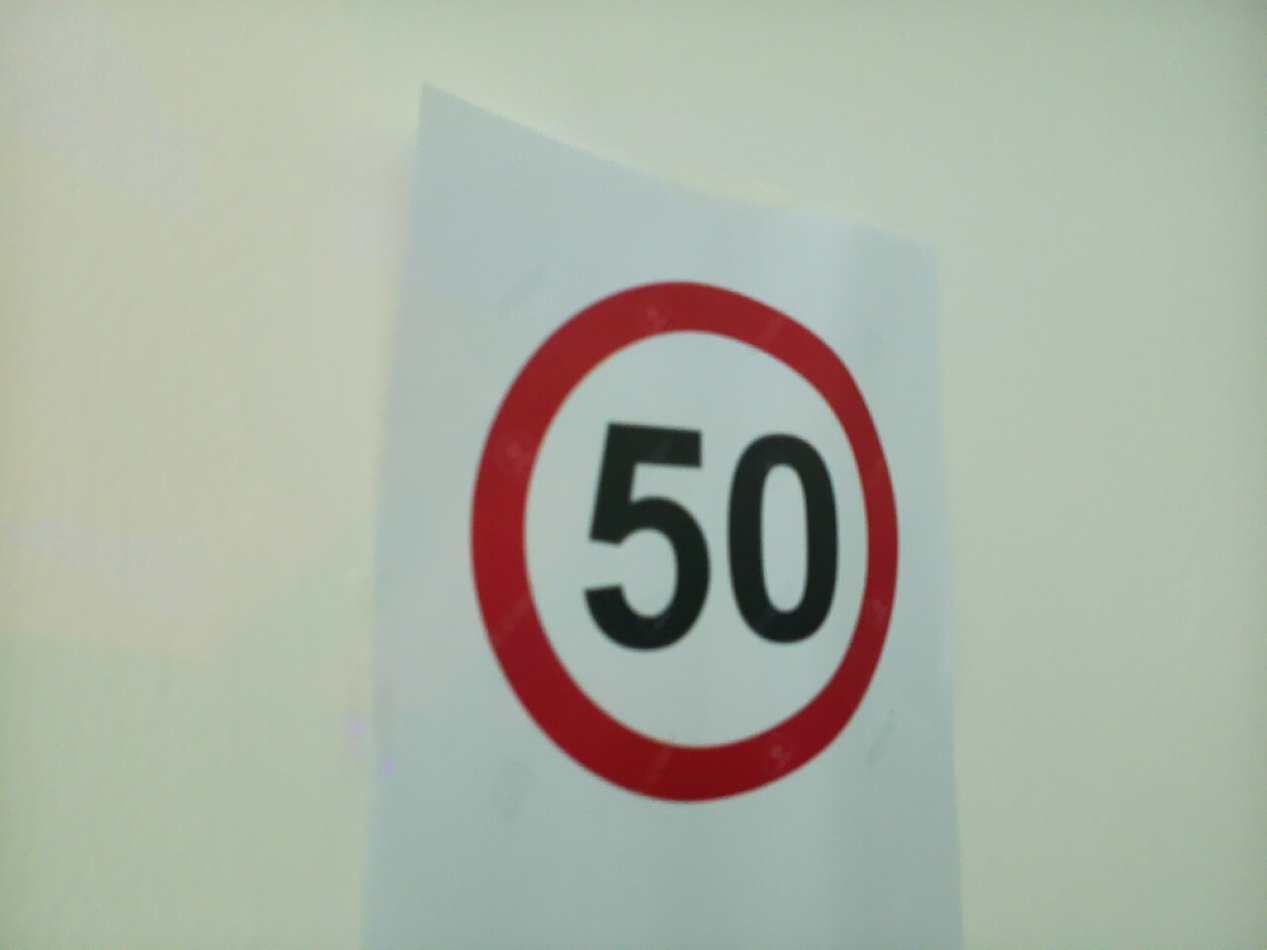speed_50: (721, 426, 844, 651)
